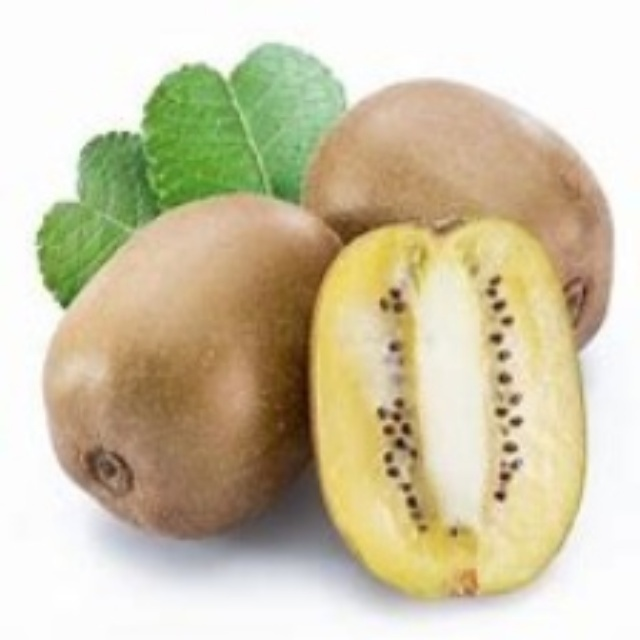kiwi: (31, 193, 354, 539), (315, 215, 588, 594), (296, 67, 628, 368)
